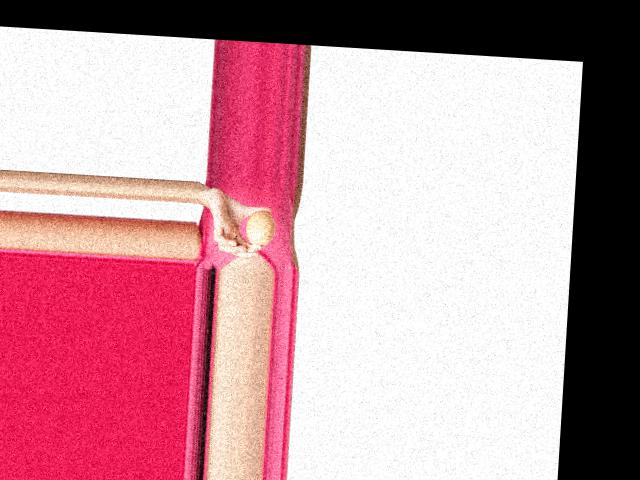egg: (244, 209, 275, 247)
